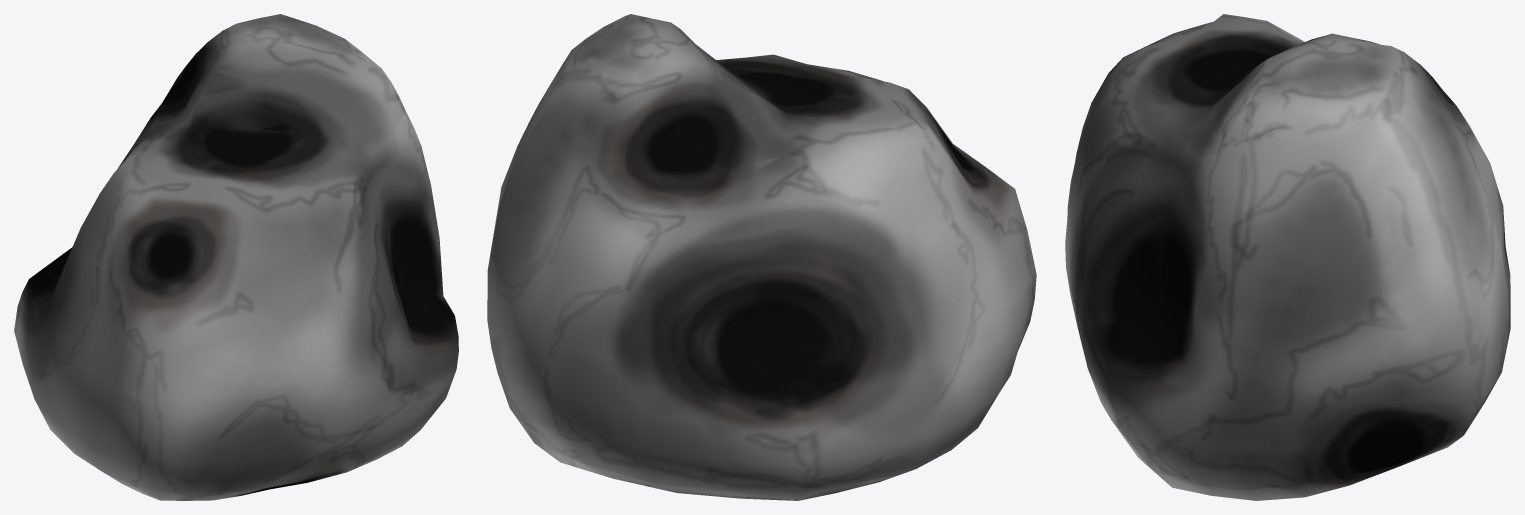
File: Asteroid.fbx
3 views of the same model, side by side, from view 1: azimuth 30°, elevation 25°; view 2: azimuth 150°, elevation 25°; view 3: azimuth 270°, elevation 25° (orthographic). The views are drawn at different scales.
Parts seen in each view (by area): view 1: Asteroid; view 2: Asteroid; view 3: Asteroid.
Part boxes in pixels (x1,y1,x2,y2): Asteroid: (14,14,458,500); Asteroid: (487,14,1036,500); Asteroid: (1065,14,1510,500).
Size of the model in its own units: 19.24 by 19.57 by 17.88.
Materials: 1 (1 with a texture image).
